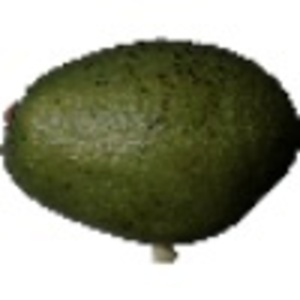abacate: (2, 36, 298, 247)
